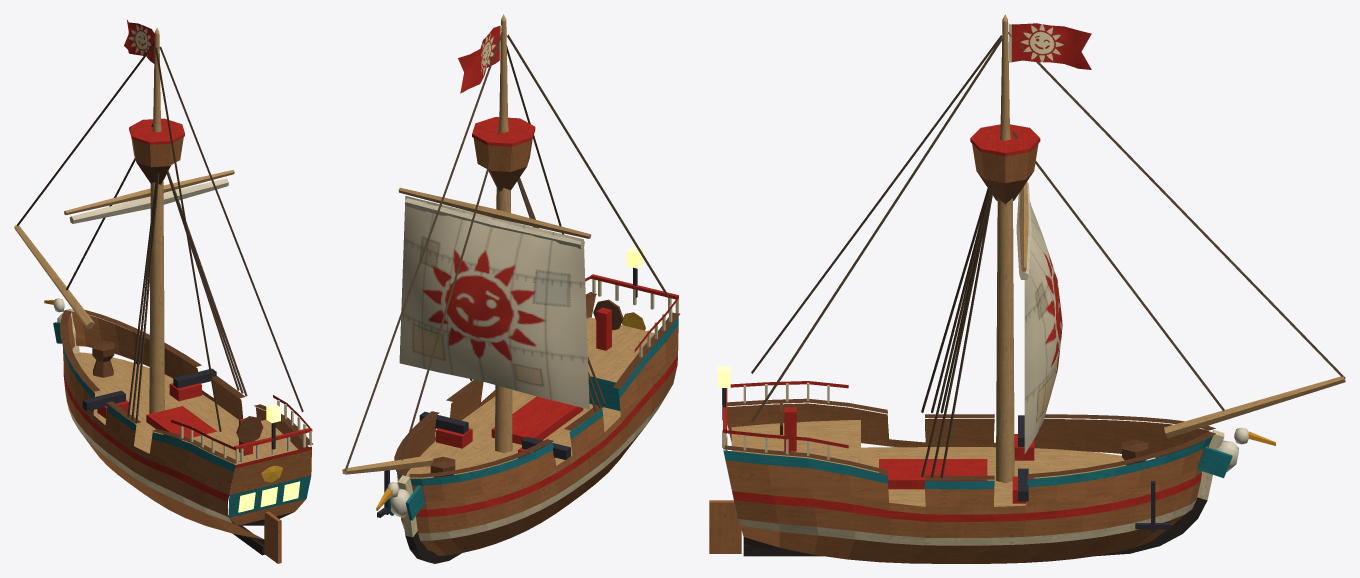
Rendered from sloop_lod.glb.
The picture shows the model from 3 angles, left to right: view 1: azimuth 30°, elevation 25°; view 2: azimuth 150°, elevation 25°; view 3: azimuth 270°, elevation 25°; orthographic projection. The views are drawn at different scales.
Parts seen in each view (by area): view 1: Hull, Sail_Furled, Yard, Flag; view 2: Hull, Sail, Yard, Flag, Sail_Furled; view 3: Hull, Sail, Flag.
Part boxes in pixels (bbox=[...]): Hull: bbox=[14, 27, 313, 563]; Sail_Furled: bbox=[69, 178, 228, 223]; Yard: bbox=[64, 170, 234, 214]; Flag: bbox=[124, 20, 154, 63]; Hull: bbox=[342, 14, 679, 563]; Sail: bbox=[399, 196, 589, 409]; Yard: bbox=[398, 187, 591, 238]; Flag: bbox=[458, 25, 501, 93]; Sail_Furled: bbox=[405, 198, 584, 248]; Hull: bbox=[709, 14, 1345, 563]; Sail: bbox=[1024, 201, 1062, 453]; Flag: bbox=[1009, 23, 1091, 69].
Size of the model in its own units: 6.5 by 16.52 by 17.63.
Materials: 4 (3 with a texture image).
